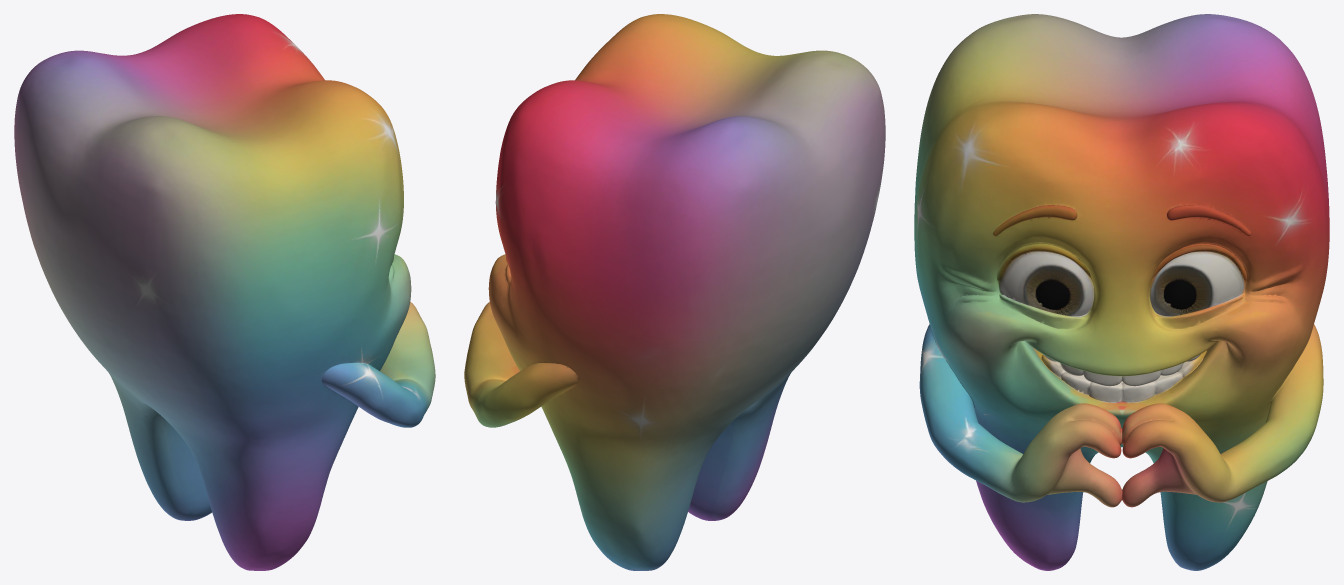
The model's file is glbData_1780604955594_wwvwm.glb.
The picture shows the model from 3 angles, left to right: view 1: azimuth 30°, elevation 25°; view 2: azimuth 150°, elevation 25°; view 3: azimuth 270°, elevation 25°; orthographic projection. The views are drawn at different scales.
Parts seen in each view (by area): view 1: tripo_node_6e3543b5-9482-4dd7-a2d8-50375bd11da9; view 2: tripo_node_6e3543b5-9482-4dd7-a2d8-50375bd11da9; view 3: tripo_node_6e3543b5-9482-4dd7-a2d8-50375bd11da9.
Part boxes in pixels (x1,y1,x2,y2): tripo_node_6e3543b5-9482-4dd7-a2d8-50375bd11da9: (14, 14, 435, 570); tripo_node_6e3543b5-9482-4dd7-a2d8-50375bd11da9: (464, 14, 885, 570); tripo_node_6e3543b5-9482-4dd7-a2d8-50375bd11da9: (914, 14, 1329, 570).
Size of the model in its own units: 0.1107 by 0.15 by 0.1138.
1 material, 1 textured.
